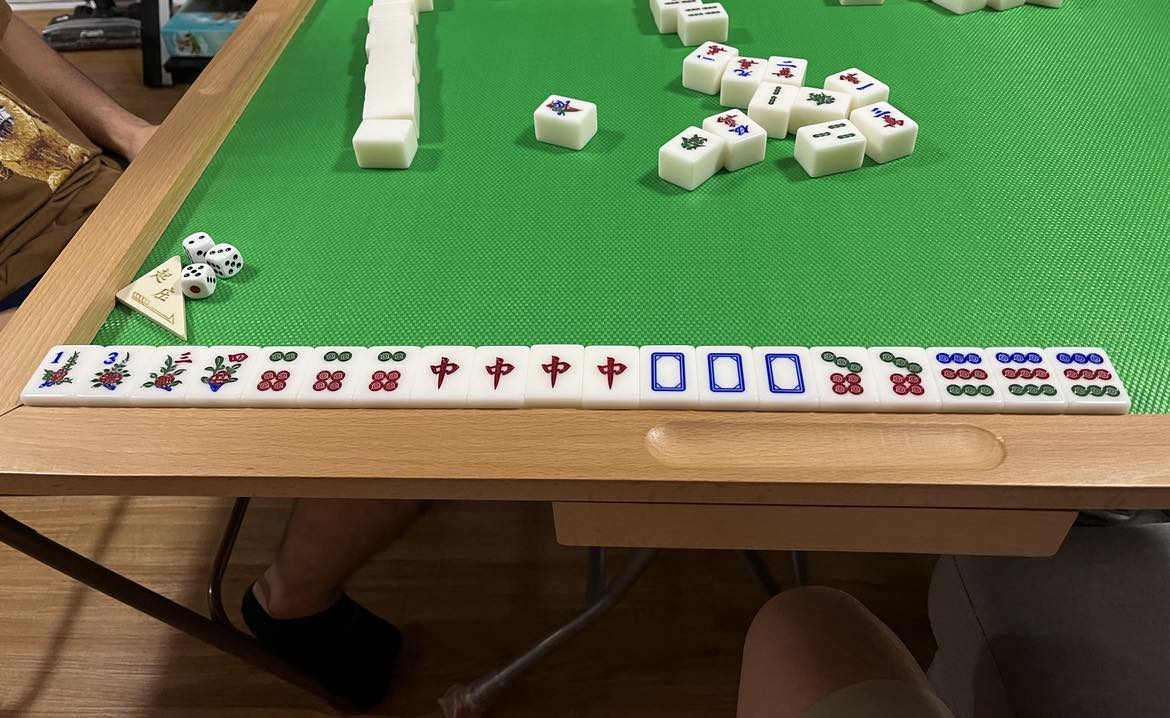circle-nine: (1057, 351, 1120, 403), (994, 349, 1058, 400), (935, 349, 995, 401)
circle-seven: (874, 349, 935, 398), (818, 347, 872, 398)
circle-six: (311, 350, 355, 401), (367, 348, 410, 400), (257, 351, 300, 399)
flower-blue_one: (36, 345, 81, 394)
flower-blue_three: (86, 346, 137, 396)
flower-red_four: (200, 347, 251, 399)
flower-red_three: (139, 347, 196, 399)
honor-blue_dragon: (702, 347, 752, 401), (646, 348, 690, 398), (764, 350, 808, 398)
honor-red_dragon: (588, 350, 633, 397), (422, 350, 466, 396), (481, 350, 519, 397), (536, 350, 575, 394)
